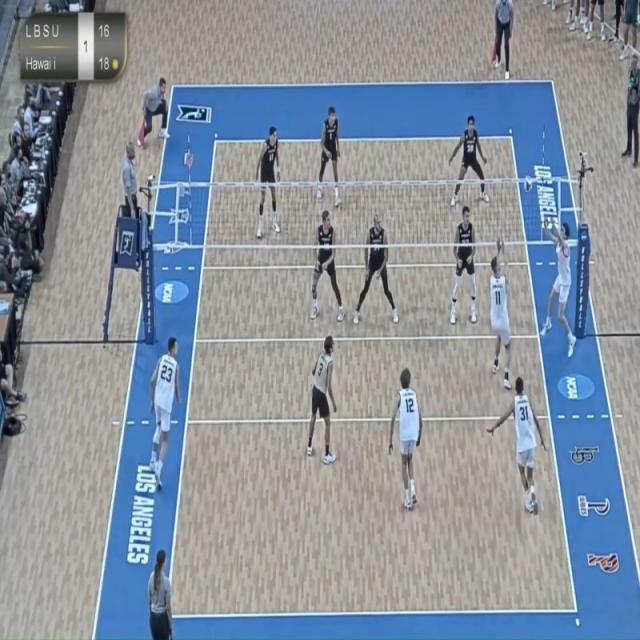volleyball: (522, 171, 536, 197)
